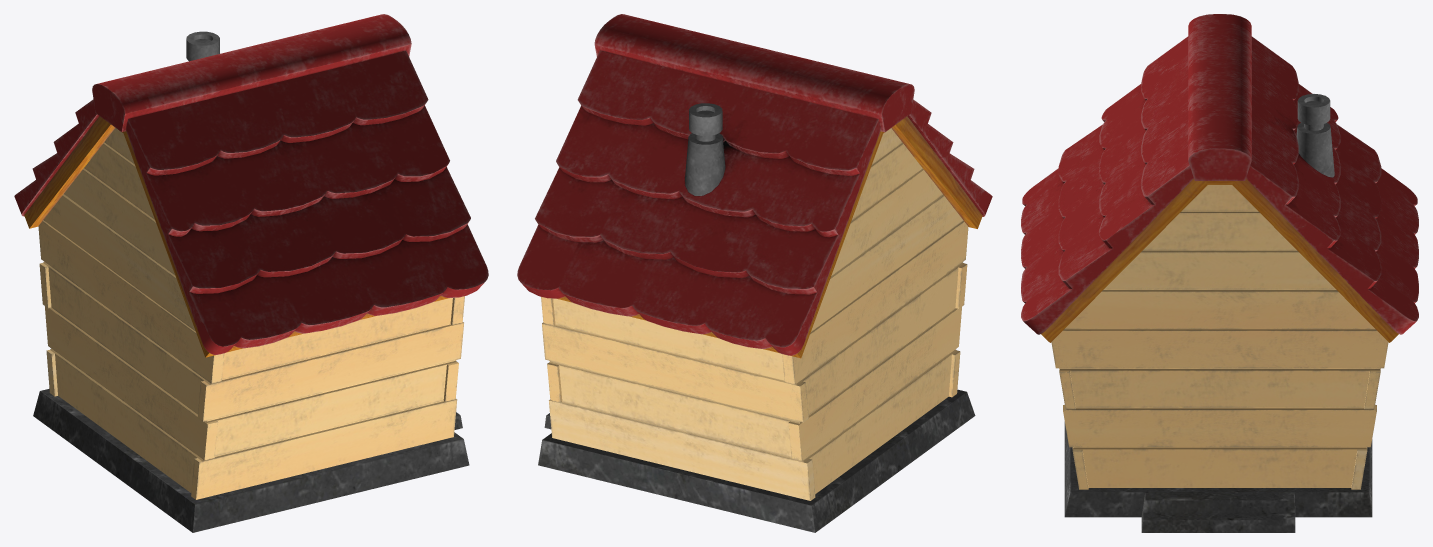
File: house.obj
3 renders of one model, left to right at view 1: azimuth 30°, elevation 25°; view 2: azimuth 150°, elevation 25°; view 3: azimuth 270°, elevation 25°, orthographic. The views are drawn at different scales.
Visible parts, largest first — view 1: obj1; view 2: obj1; view 3: obj1.
Boxes of the visible parts, bbox=[...] form: obj1: bbox=[14, 14, 488, 532]; obj1: bbox=[517, 14, 992, 532]; obj1: bbox=[1021, 14, 1418, 532].
Bounding box in the file's own units: 186 × 219 × 212.
1 material, 1 textured.
